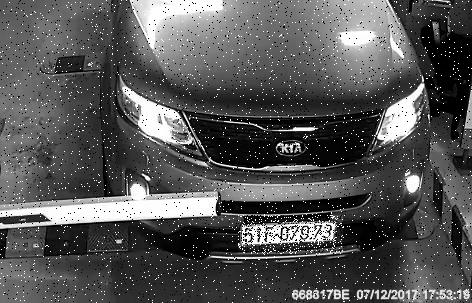License-plate: (240, 216, 346, 255)
